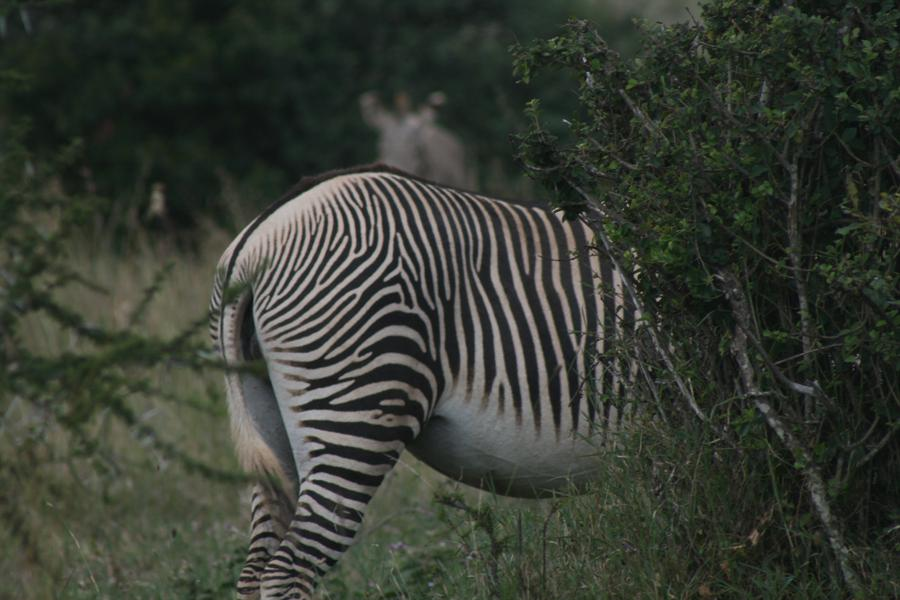zebra_grevys: (225, 149, 616, 490)
